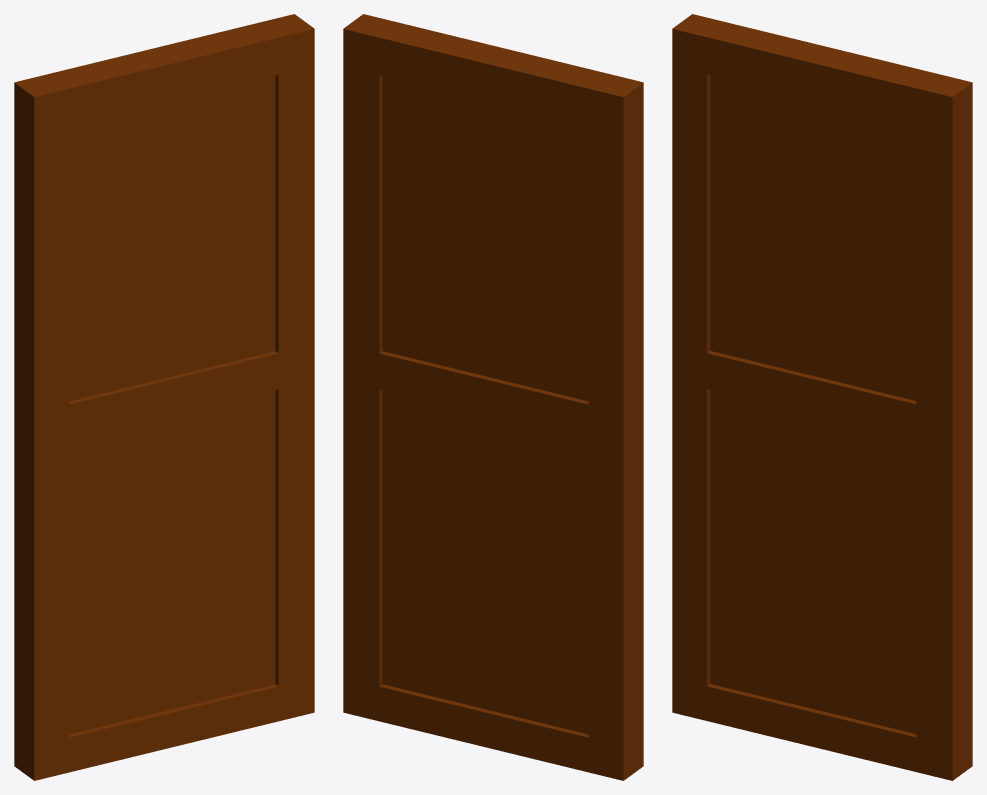
File: door2.dae
The picture shows the model from 3 angles, left to right: view 1: azimuth 30°, elevation 25°; view 2: azimuth 150°, elevation 25°; view 3: azimuth 330°, elevation 25°; orthographic projection.
Visible parts, largest first — view 1: Куб; view 2: Куб; view 3: Куб.
Part boxes in pixels (x1,y1,x2,y2): Куб: [14, 14, 314, 780]; Куб: [343, 14, 643, 780]; Куб: [672, 14, 972, 780].
Bounding box in the file's own units: 1.6 × 0.2 × 3.73.
